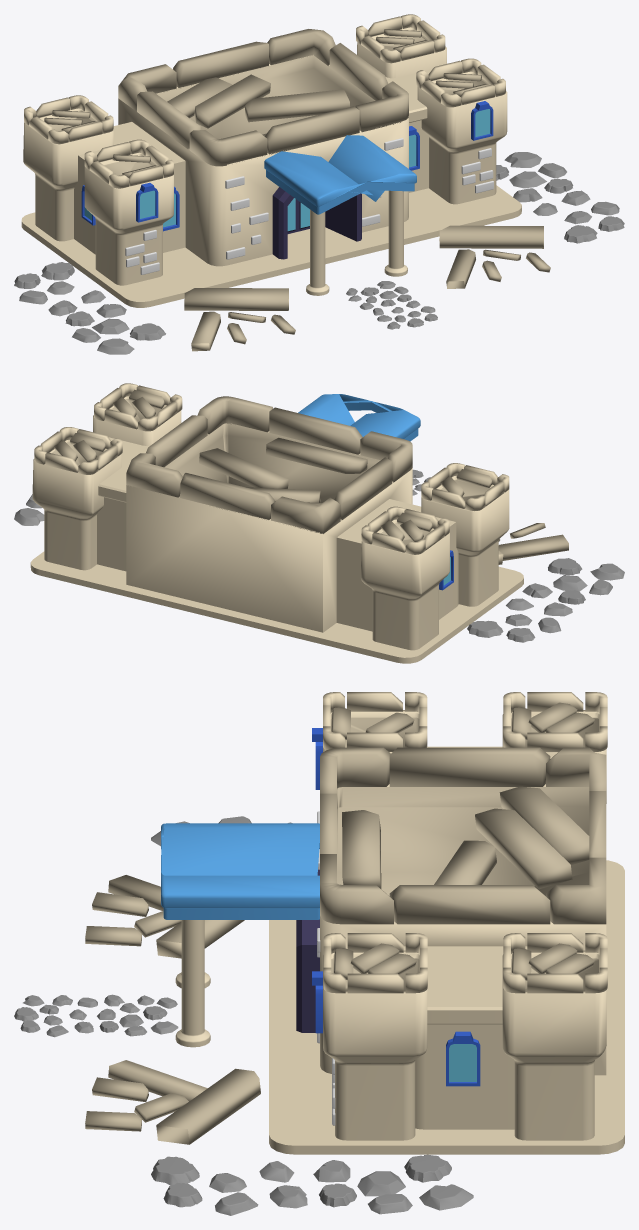
3 views of the same model, one above another, from view 1: azimuth 30°, elevation 25°; view 2: azimuth 150°, elevation 25°; view 3: azimuth 270°, elevation 25° (orthographic). The views are drawn at different scales.
Visible parts, largest first — view 1: Townhall.002, stone_path2.002, stone_path1.002, stone_path.002; view 2: Townhall.002, stone_path2.002, stone_path1.002; view 3: Townhall.002, stone_path1.002, stone_path.002.
Part boxes in pixels (x1,y1,x2,y2): Townhall.002: (21, 14, 550, 351); stone_path2.002: (14, 262, 165, 354); stone_path1.002: (496, 152, 624, 243); stone_path.002: (346, 281, 437, 329); Townhall.002: (30, 383, 568, 663); stone_path2.002: (467, 558, 624, 642); stone_path1.002: (14, 494, 44, 525); Townhall.002: (85, 692, 624, 1154); stone_path1.002: (151, 1154, 473, 1215); stone_path.002: (14, 994, 178, 1037).
Bounding box in the file's own units: 871 × 208 × 567.
